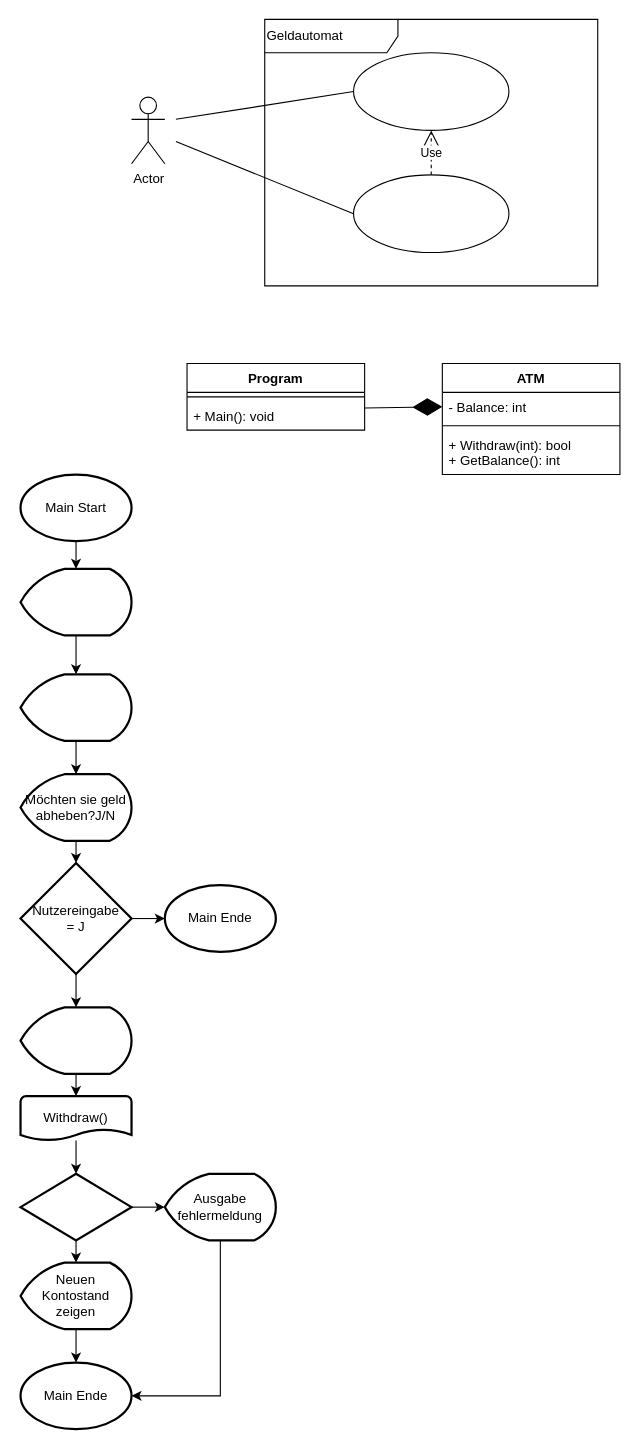
Some shapes in this 639 by 1450 pixel diagram are drawn without their labels. The shapes that lost their labels are listed below. From the top down, each one's centre as x and y in pixels, then its label:
At [430,91]: "Kontostand prüfen".
At [430,213]: "Geld abheben".
At [75,601]: "Begrüssung ausgeben".
At [75,707]: "Kontostand ausgeben".
At [75,1040]: "Betrag eingeben".
At [75,1206]: "Withdraw geklappt?".
